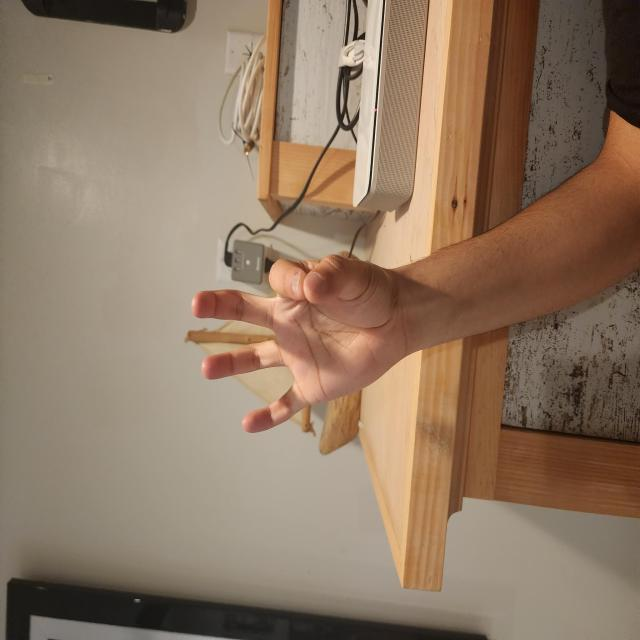F: (152, 250, 298, 545)
